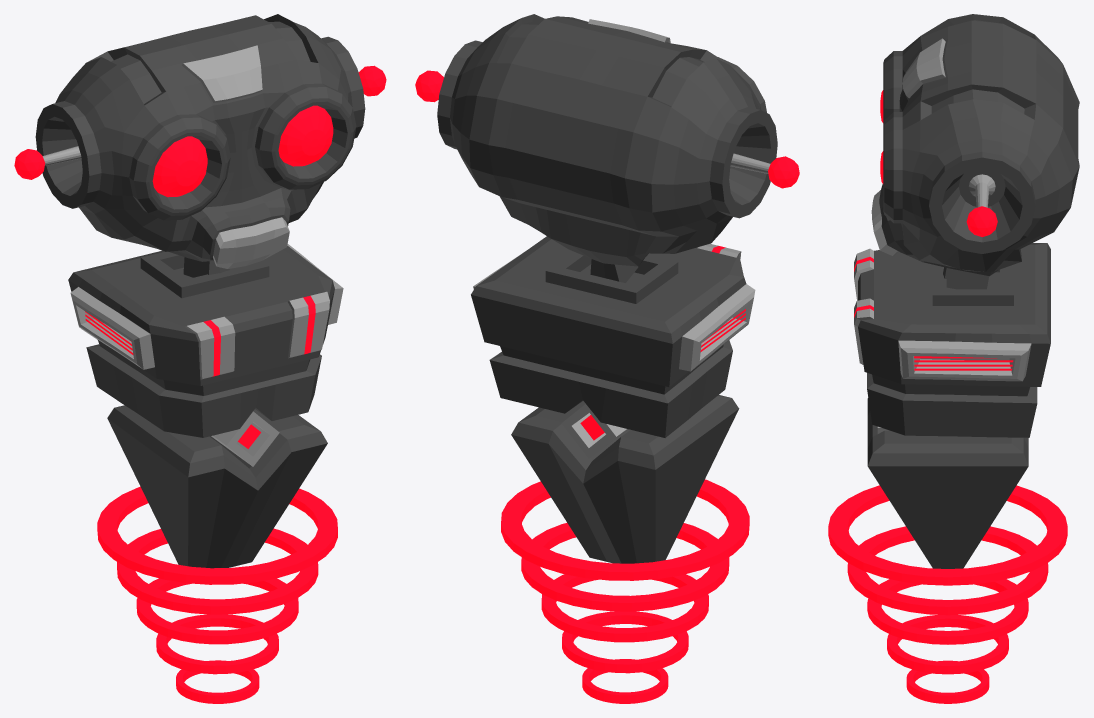
Rendered from robot-final.glb.
3 renders of one model, left to right at view 1: azimuth 30°, elevation 25°; view 2: azimuth 150°, elevation 25°; view 3: azimuth 270°, elevation 25°, orthographic. The views are drawn at different scales.
Visible parts, largest first — view 1: Circle.002, Cube.004, Cube.009, big.007, Circle.003, big.006, Cube.005, big.005, big.004, Cube.007, big; view 2: Circle.002, Cube.004, Cube.009, big.007, big.006, big.005, big.004, big, Cube.007; view 3: Circle.002, Cube.004, Cube.009, big.007, big.006, big.005, big.004, big, Cube.005, Plane.001.
Part boxes in pixels (x1,y1,x2,y2): Circle.002: (14,14,386,277); Cube.004: (68,244,343,437); Cube.009: (107,405,327,568); big.007: (97,486,337,584); Circle.003: (152,105,333,197); big.006: (117,528,318,614); Cube.005: (185,291,329,379); big.005: (136,578,298,644); big.004: (156,614,278,674); Cube.007: (211,411,279,466); big: (176,660,259,703); Circle.002: (415,14,799,282); Cube.004: (471,236,755,437); Cube.009: (511,395,739,563); big.007: (501,479,749,580); big.006: (521,523,729,611); big.005: (541,574,708,642); big.004: (562,611,688,673); big: (582,659,668,703); Cube.007: (561,404,628,458); Circle.002: (871,14,1079,289); Cube.004: (858,243,1050,437); Cube.009: (867,398,1028,568); big.007: (828,485,1067,585); big.006: (847,526,1048,615); big.005: (867,579,1028,644); big.004: (887,615,1008,674); big: (906,660,989,703); Cube.005: (854,248,873,364); Plane.001: (914,356,1013,370).
Bounding box in the file's own units: 0.5125 × 0.8507 × 0.306.
